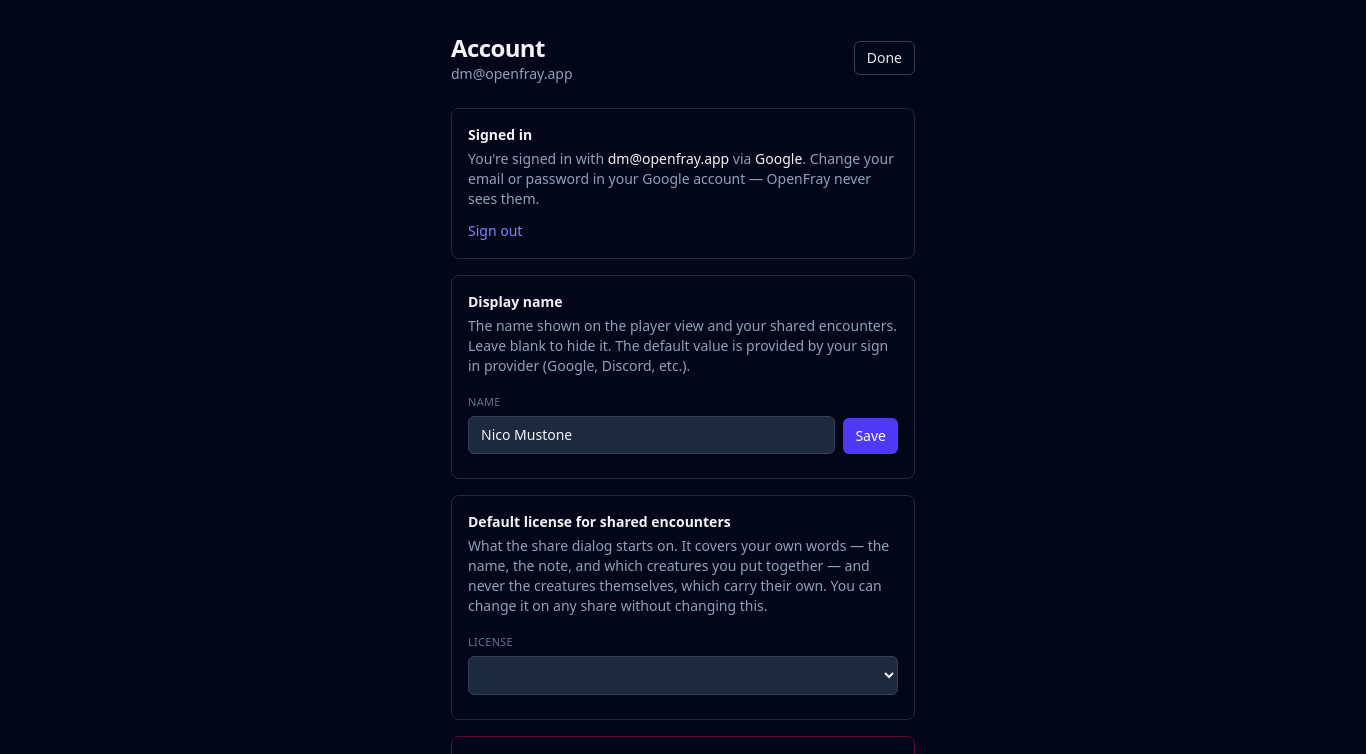
Test: AccountPanel — display name › refuses a name a byline could never carry, before it reaches the account
Replace the text in the field labelled "Name" with "casino.com" at coordinates (652, 435), box [468,416,835,454]
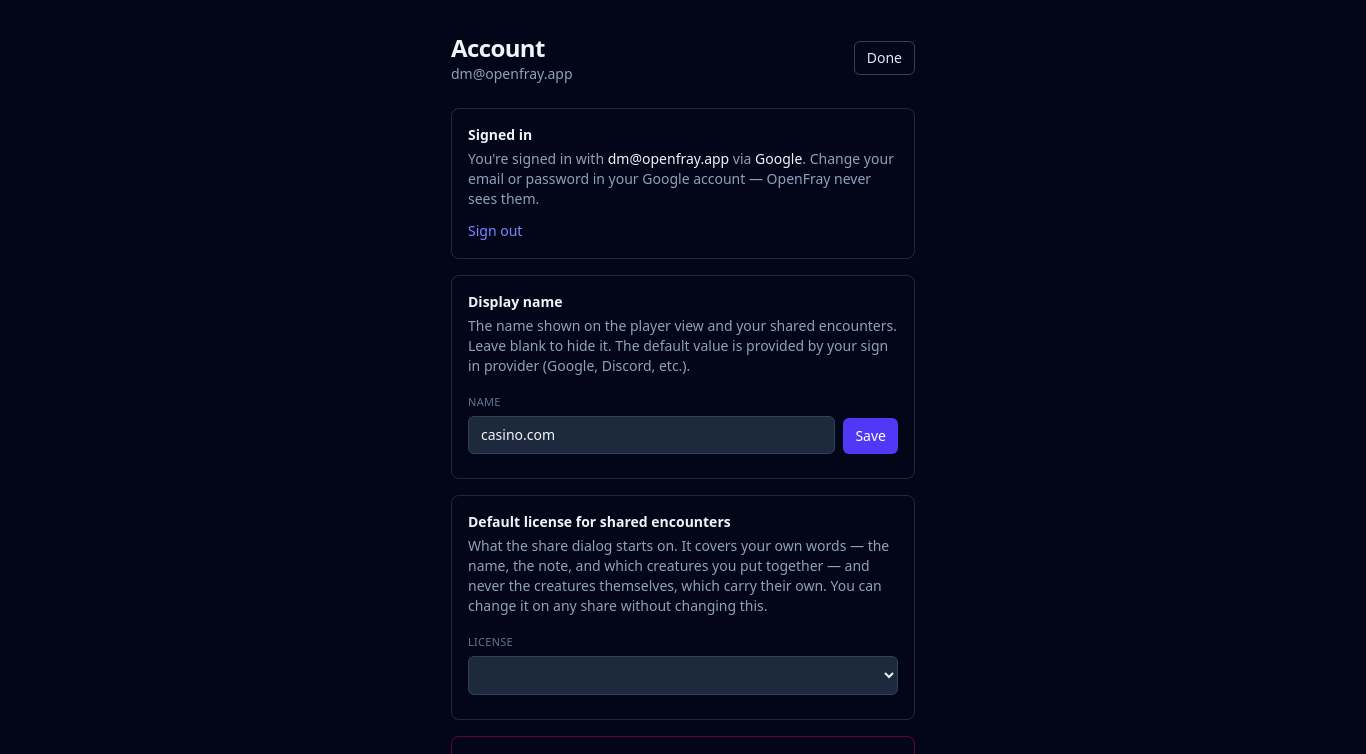
Click the button "Save" at coordinates (871, 436), box [843,418,898,454]
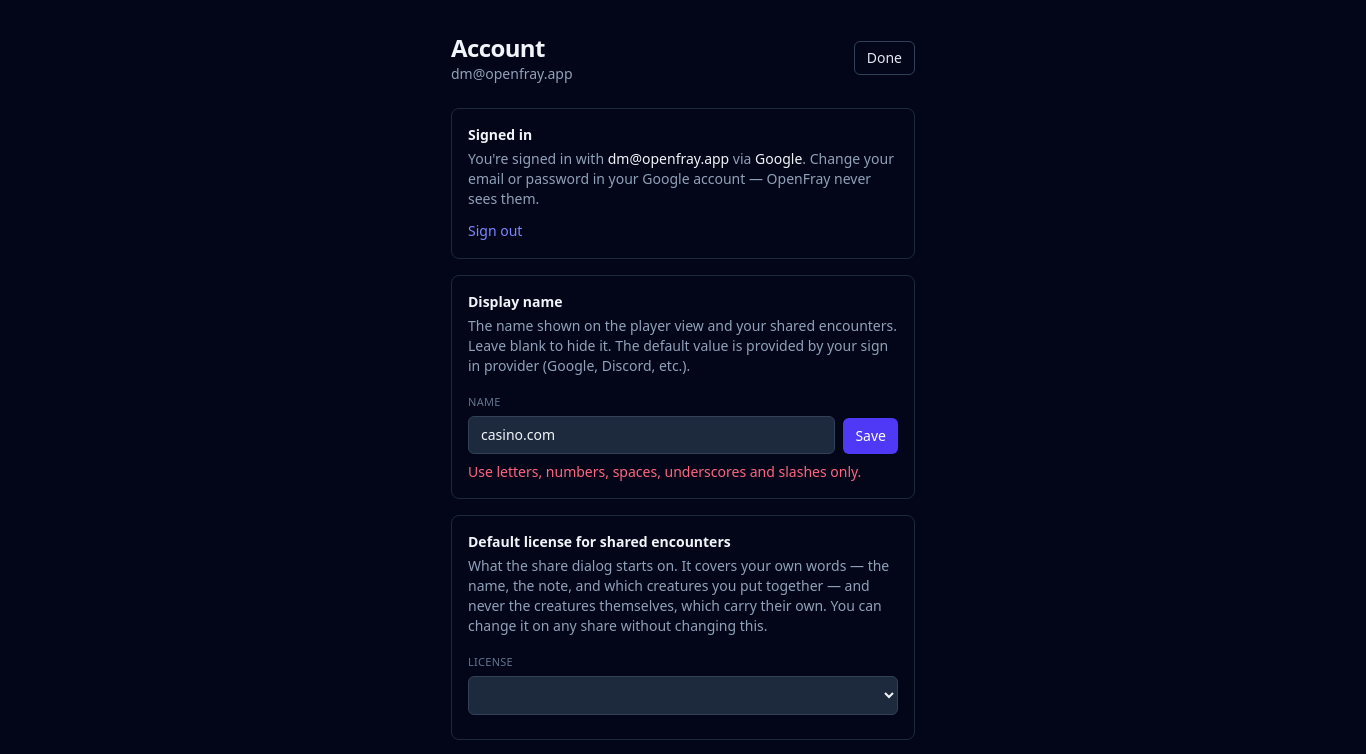
Now the text "Use letters, numbers, spaces, underscores and slashes only." is shown, box [468,462,898,482]
